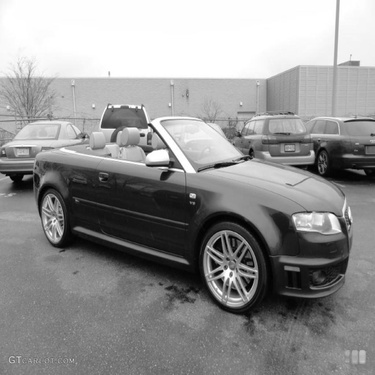car: (28, 109, 356, 321), (1, 105, 98, 188), (228, 105, 317, 169), (303, 105, 372, 185), (91, 92, 160, 151), (172, 114, 232, 155)
